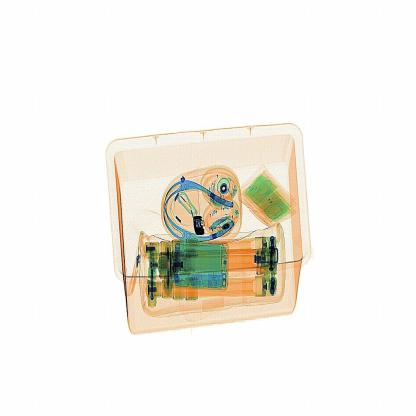pliers: (190, 213, 210, 241)
